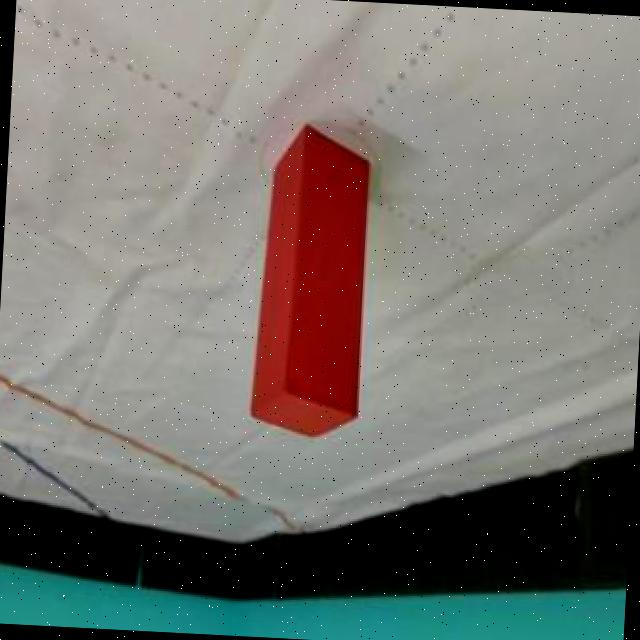redbox: (250, 121, 376, 442)
